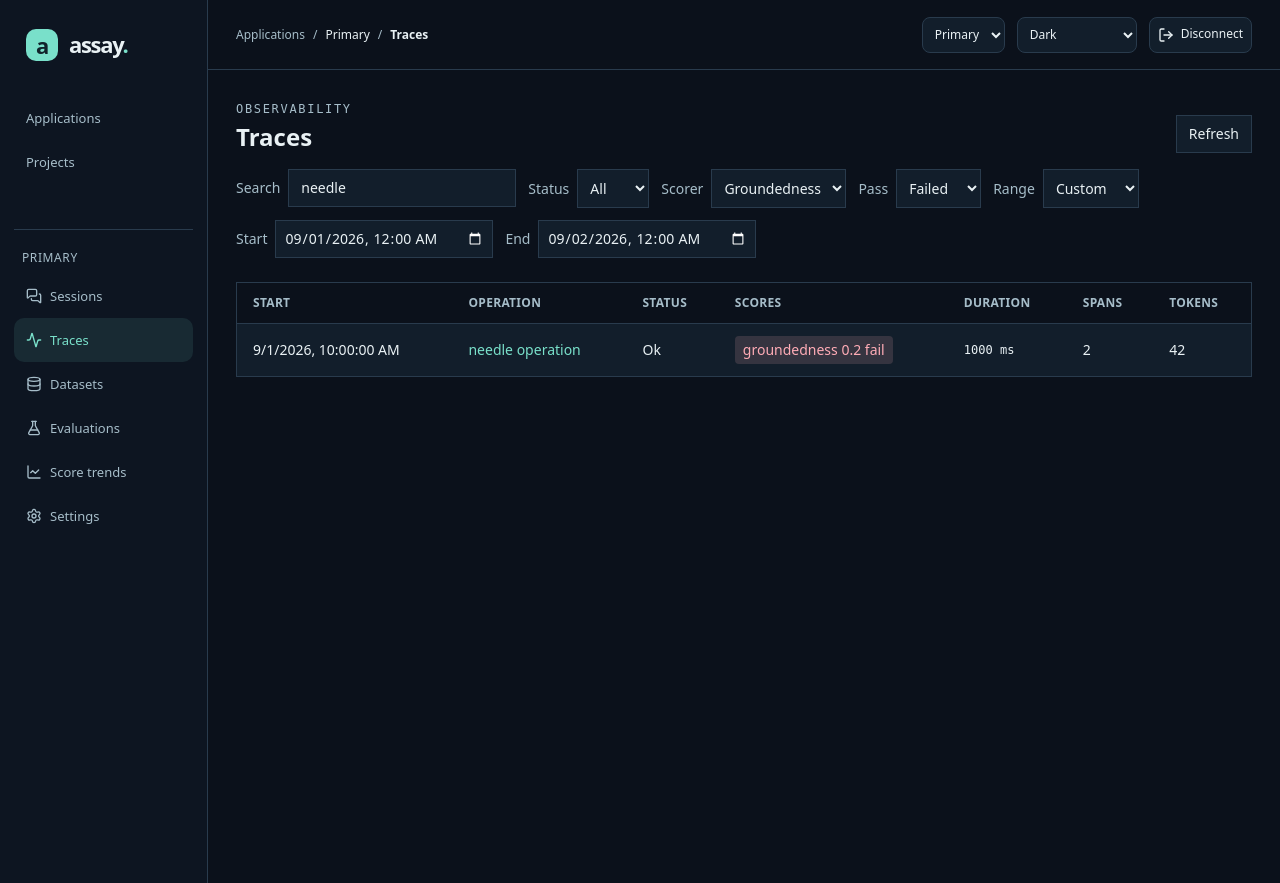
Test: links score summaries to their captured trace evidence
Expected: the link "needle operation" is shown, [468,340,581,359]
Expected: the dropdown labelled "Pass" shows "Failed", [896,169,981,208]
Click the link with aria-label "View groundedness score evidence" at (814, 350), box [735,336,893,364]
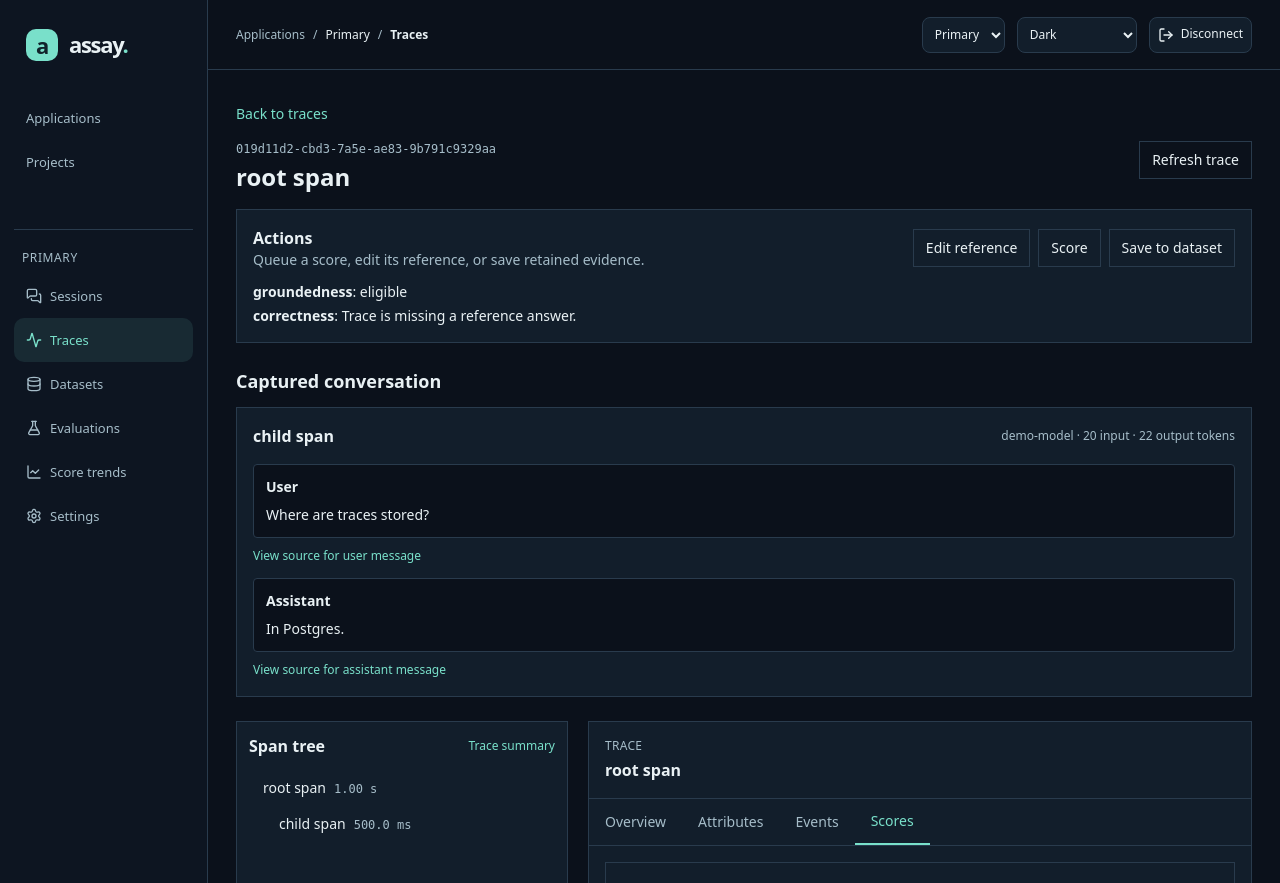
Now the element named "Conversation" shows "Where are traces stored?", box [266,505,429,524]
